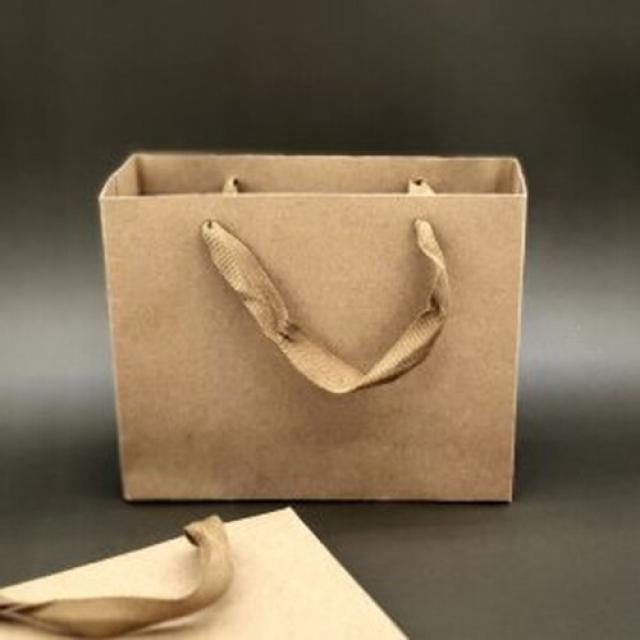paper bag: (97, 149, 526, 503), (542, 434, 542, 437)
